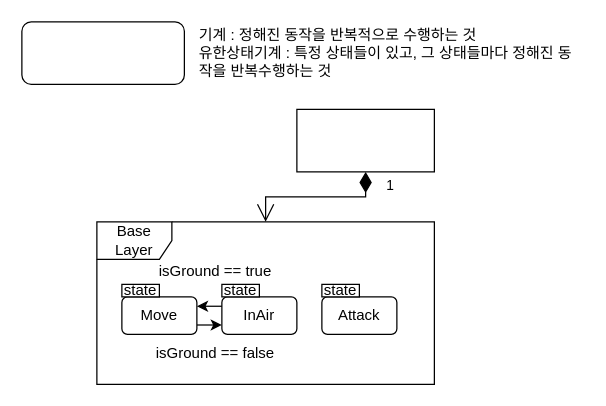
This 606x406 diagram has some shape labels left out. Each missing label, with the box of its shape:
Animator Controller: (296, 108, 434, 172)
FSM (Finite State Machine): (21, 21, 184, 84)
